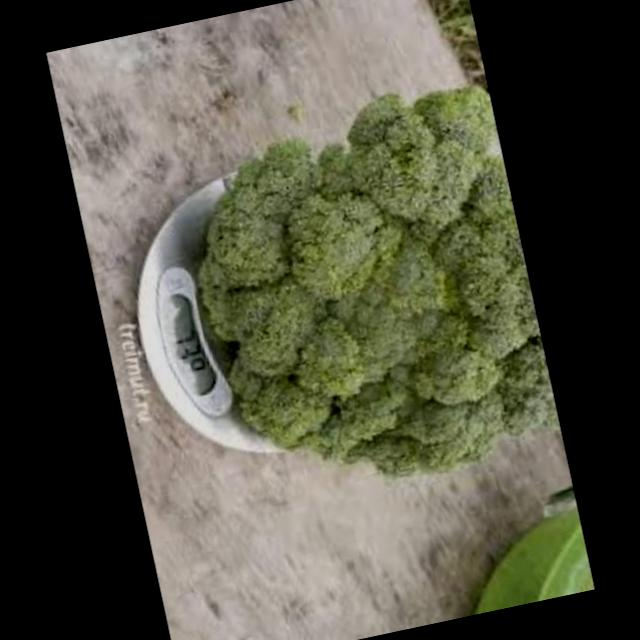Broccoli: (181, 66, 556, 508)
